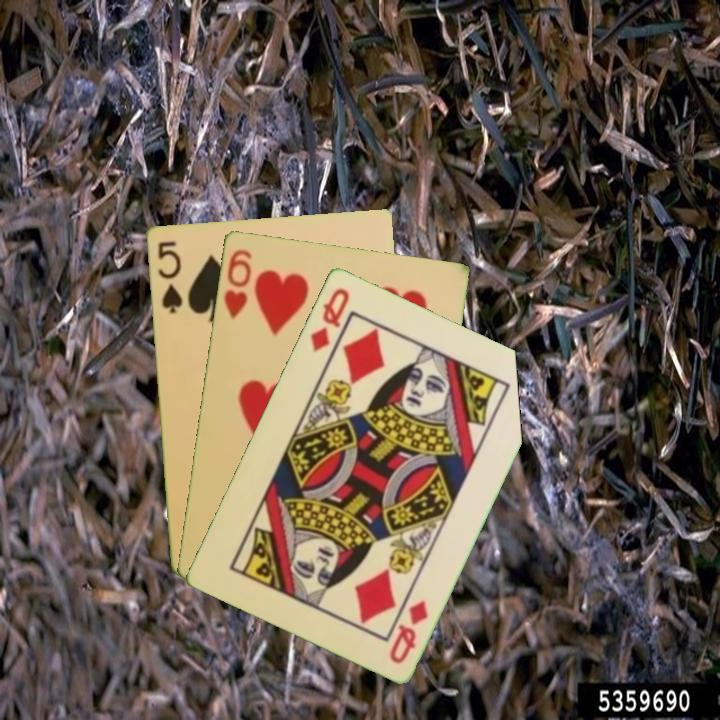5s: (153, 237, 185, 316)
6h: (220, 245, 255, 321)
Qd: (306, 284, 352, 355), (385, 596, 431, 666)
